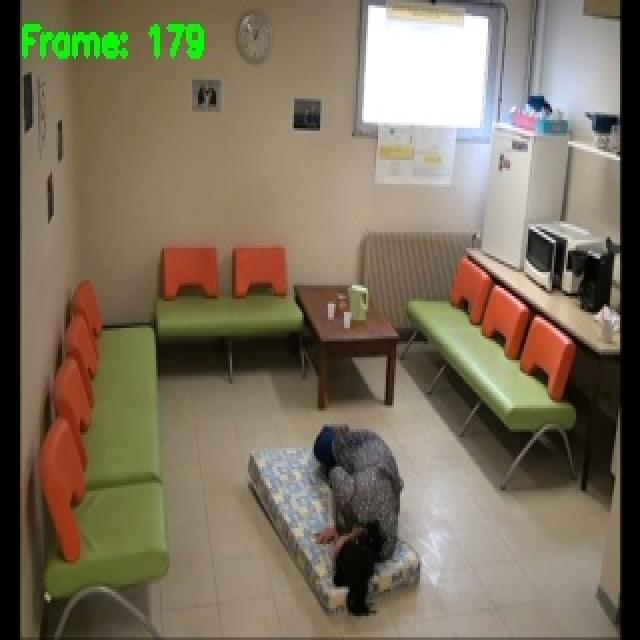Fall-Detected: (297, 412, 405, 623)
